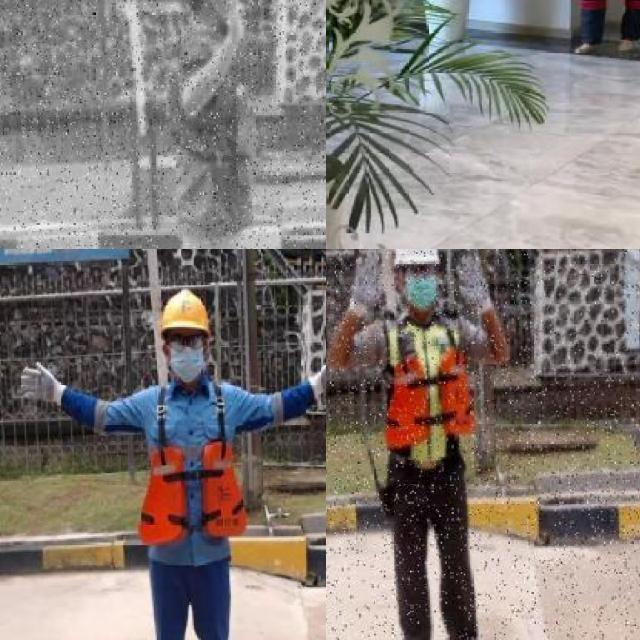apron: (18, 357, 70, 414), (347, 253, 387, 319), (455, 252, 493, 316), (307, 348, 326, 405)
